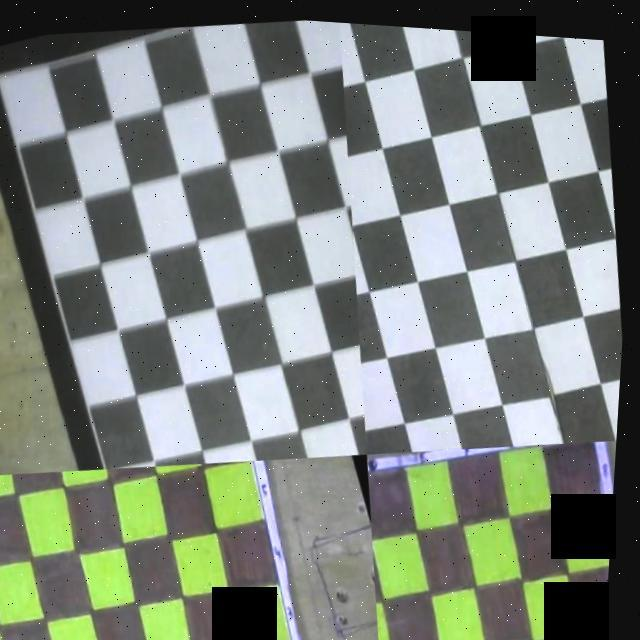chess-table-corners: (6, 60, 19, 76), (134, 457, 148, 466), (374, 442, 383, 448), (365, 442, 372, 449)
